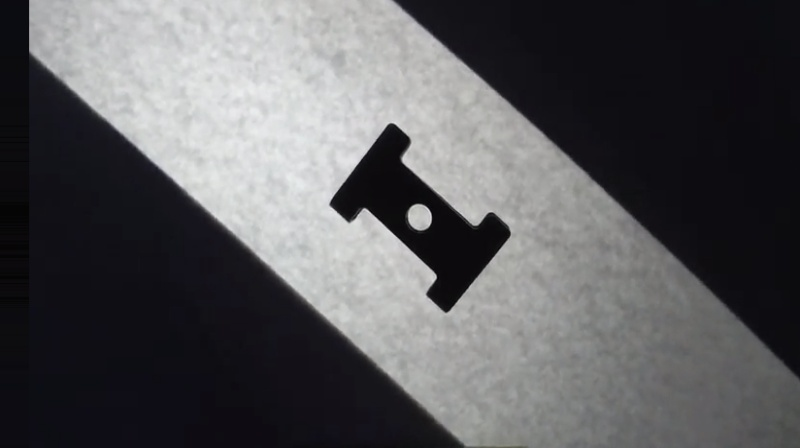O002: (328, 118, 514, 316)
